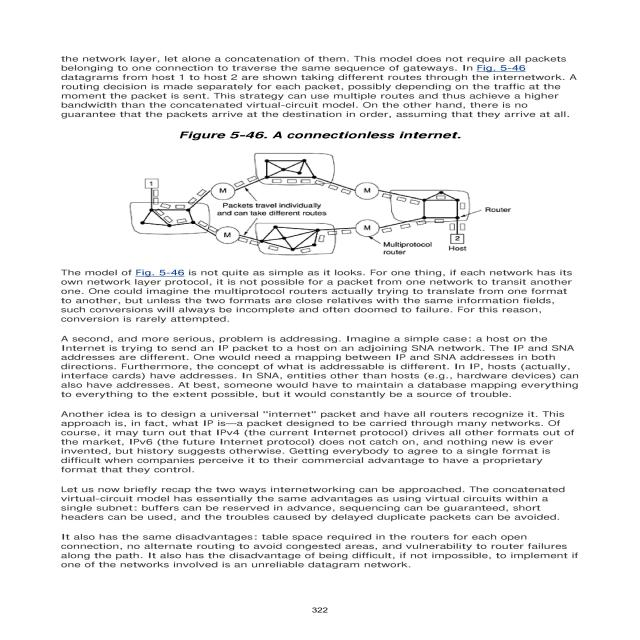diagram: (121, 116, 586, 266)
